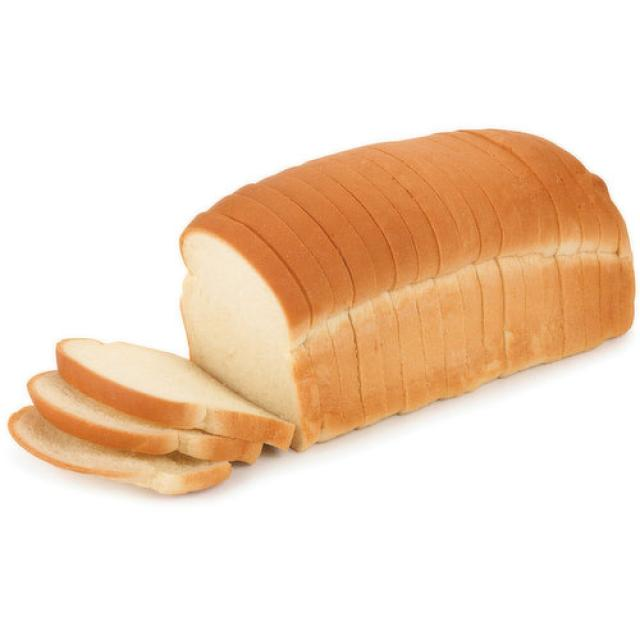Bread: (181, 130, 634, 449), (56, 339, 294, 449), (9, 406, 231, 494)
